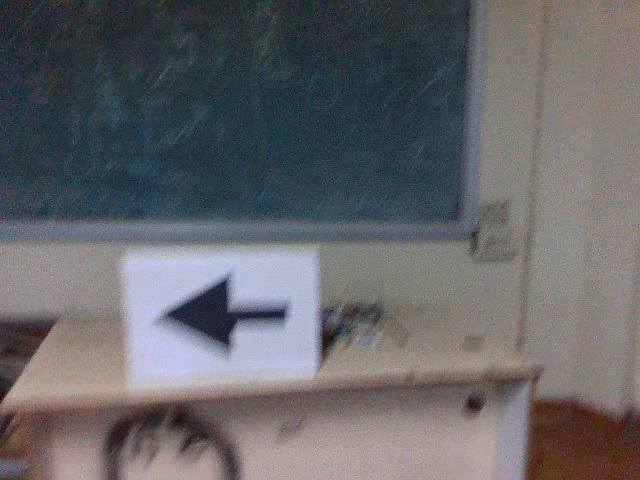Left: (138, 268, 287, 363)
